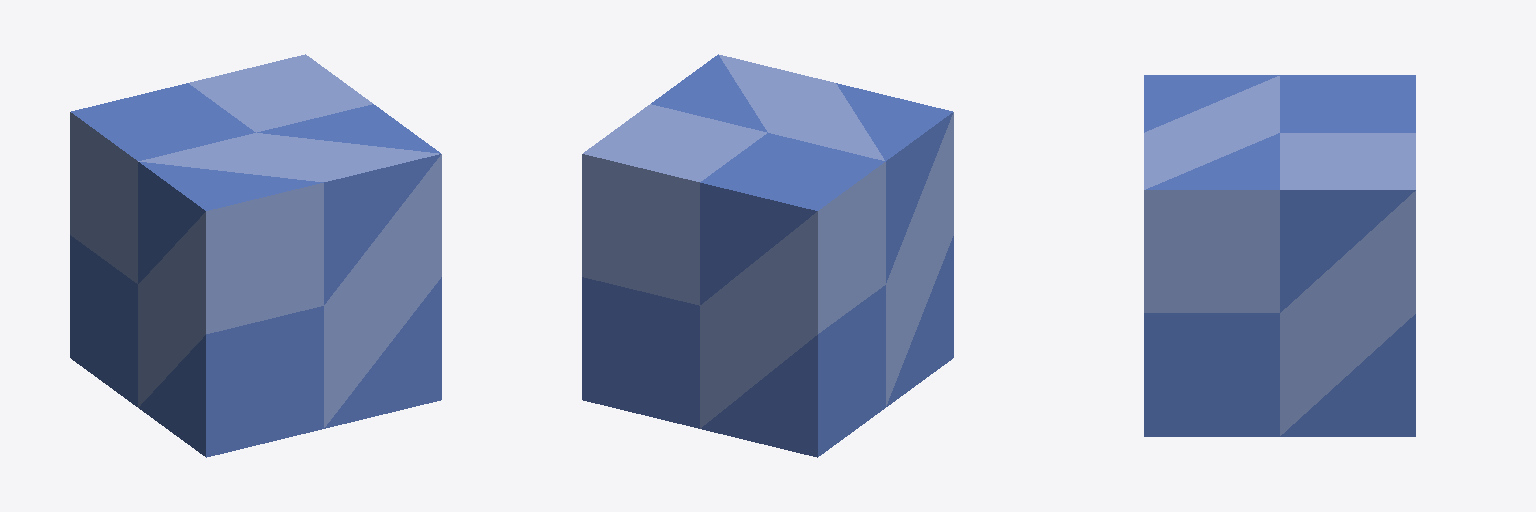
3 views of the same model, side by side, from view 1: azimuth 30°, elevation 25°; view 2: azimuth 150°, elevation 25°; view 3: azimuth 270°, elevation 25° (orthographic).
Visible parts, largest first — view 1: Cube; view 2: Cube; view 3: Cube.
Boxes of the visible parts, box(x1,y1,x2,y2) form: Cube: box(70, 54, 441, 457); Cube: box(582, 54, 953, 457); Cube: box(1144, 75, 1415, 436).
Size of the model in its own units: 32 by 32 by 32.
1 materials, 1 textured.